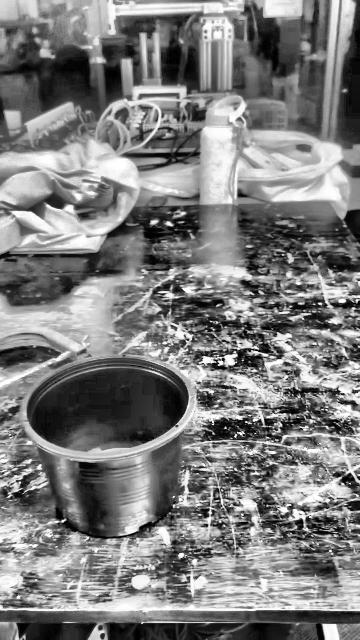pot: (23, 357, 193, 537)
